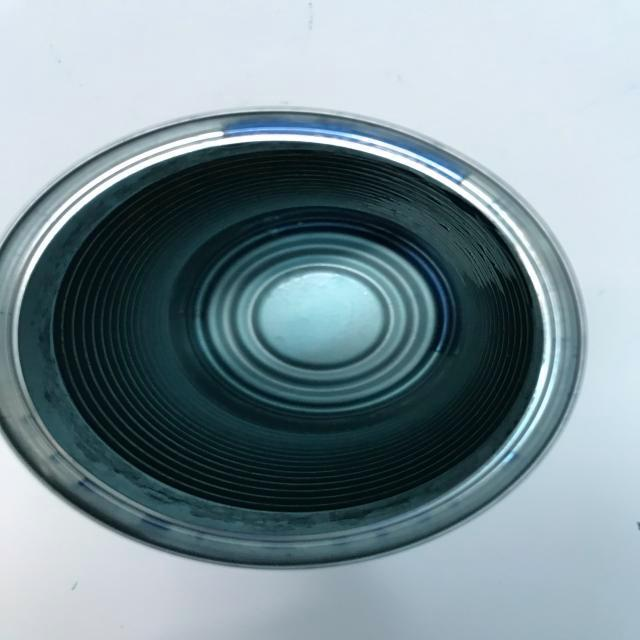metal: (3, 80, 600, 587)
